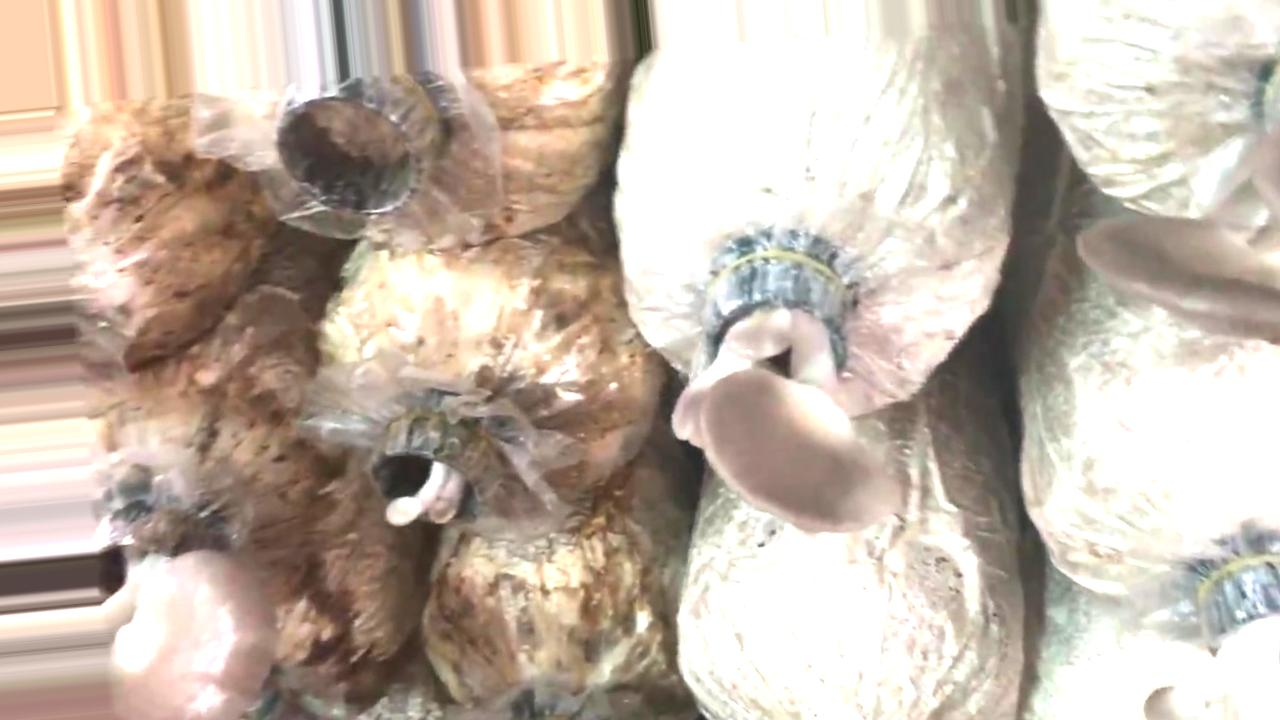nam: (668, 256, 892, 537), (2, 496, 281, 720), (1080, 42, 1280, 343), (380, 403, 484, 524)
